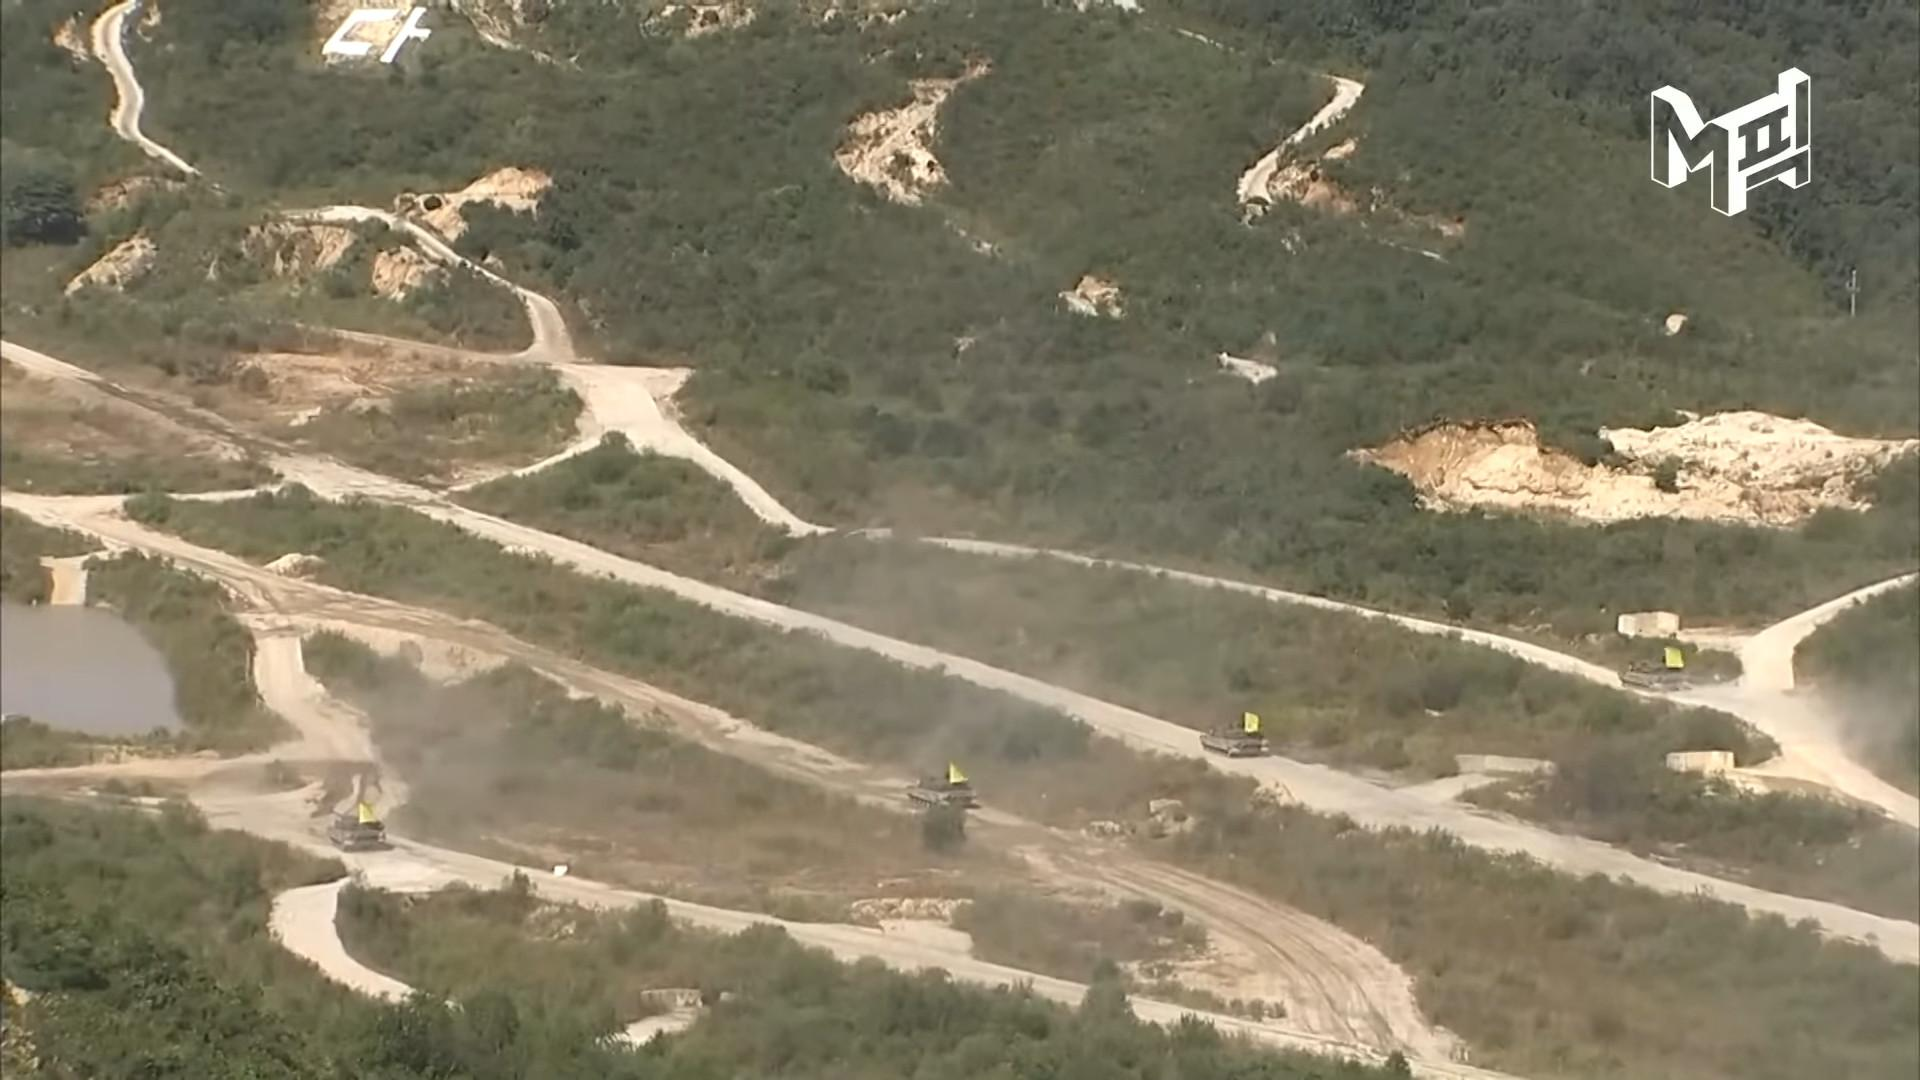tank: (327, 807, 385, 851), (1200, 722, 1270, 757)
